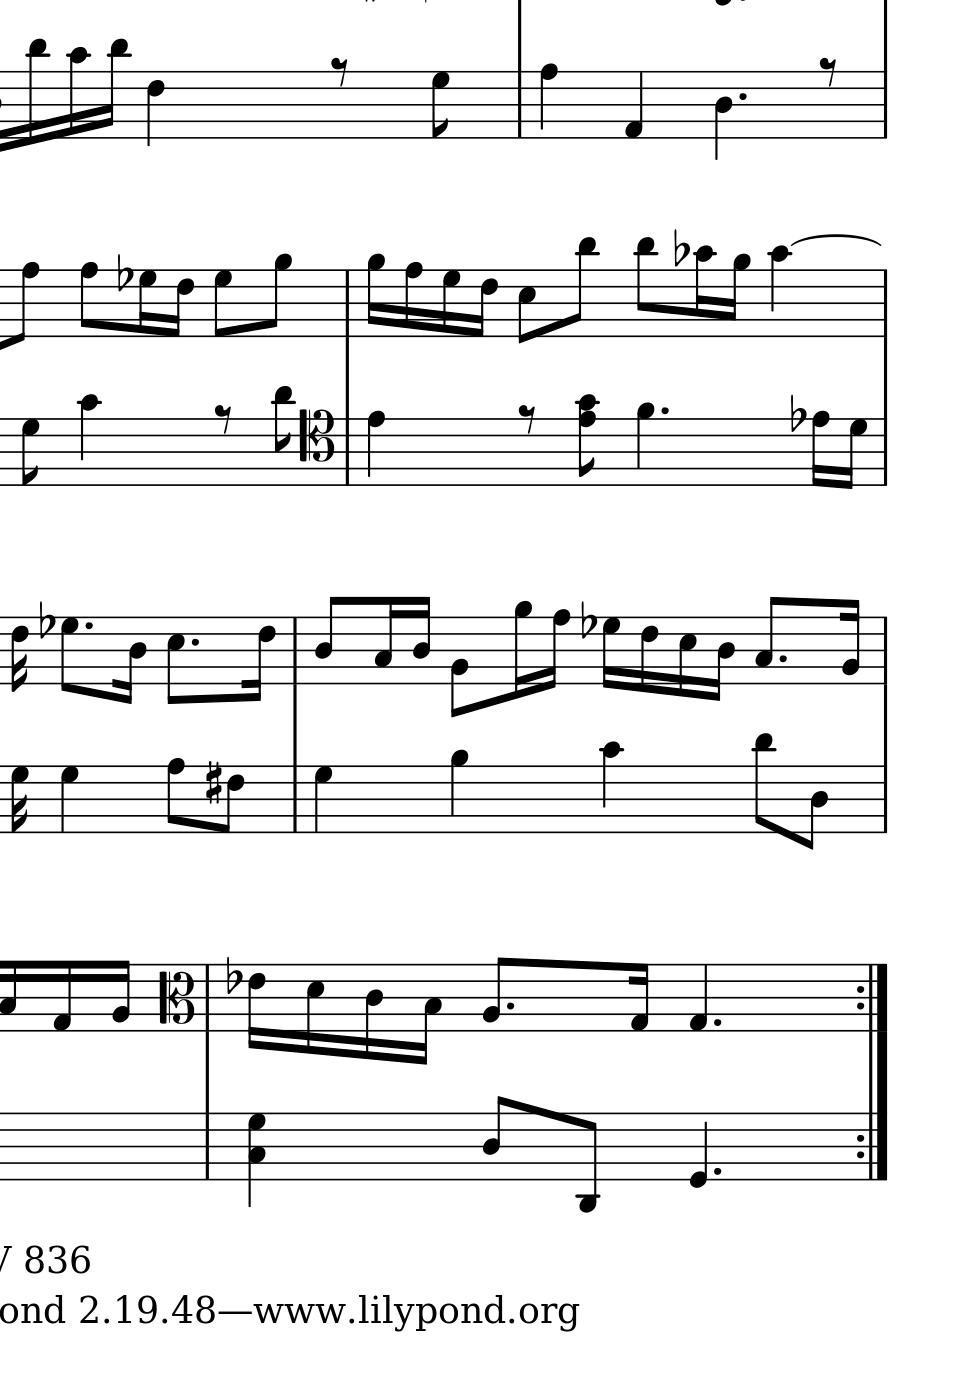16_1: (50, 958, 74, 1035), (626, 962, 651, 1035)
16_10: (692, 243, 717, 338), (66, 45, 89, 140)
16_11: (99, 37, 130, 142), (25, 37, 48, 147)
16_2: (838, 597, 861, 686), (109, 958, 132, 1033)
16_3: (413, 961, 443, 1067), (371, 595, 400, 686), (1, 958, 19, 1034)
16_4: (115, 615, 146, 706), (361, 962, 385, 1064), (708, 614, 735, 703), (412, 595, 431, 685)
16_5: (304, 962, 325, 1057), (676, 614, 697, 699)
16_6: (243, 615, 277, 703), (168, 267, 194, 339), (246, 962, 267, 1051), (472, 268, 498, 338), (8, 614, 29, 694), (638, 615, 659, 695)
16_7: (841, 416, 868, 492), (600, 615, 620, 692), (136, 267, 157, 340), (439, 267, 460, 340), (8, 764, 30, 837)
16_8: (541, 608, 570, 692), (402, 261, 424, 339), (809, 409, 830, 490)
16_9: (724, 252, 751, 339), (512, 599, 533, 698), (364, 251, 385, 339)
4_0: (686, 1111, 708, 1190)
4_1: (684, 963, 708, 1034), (622, 70, 644, 141)
4_10: (767, 244, 792, 338), (598, 740, 623, 836), (76, 393, 101, 488)
4_3_7: (247, 1110, 267, 1209)
4_4: (712, 70, 733, 162)
4_6: (144, 70, 165, 150)
4_7: (312, 764, 334, 835), (58, 764, 78, 835)
4_8: (364, 409, 386, 487), (537, 62, 558, 141)
4_9: (633, 400, 657, 487), (448, 749, 469, 835)
8_-3: (576, 1112, 601, 1214)
8_11: (565, 236, 599, 339), (748, 731, 778, 836), (270, 383, 295, 488), (633, 235, 658, 339)
8_2: (448, 615, 470, 718), (482, 955, 510, 1033)
8_3: (752, 594, 782, 685)
8_4: (313, 595, 342, 686), (482, 1094, 510, 1183), (801, 764, 829, 850)
8_5: (165, 615, 186, 706), (515, 267, 536, 344)
8_6: (218, 764, 244, 835)
8_7: (58, 615, 80, 696), (428, 69, 451, 141), (19, 417, 41, 488), (212, 268, 233, 338)
8_8: (8, 260, 40, 346), (78, 260, 100, 339), (164, 756, 186, 836)
8_8_10: (574, 394, 598, 486)
8_9: (264, 253, 291, 339)
Cclef: (156, 963, 196, 1032)
Flat: (670, 226, 688, 269), (578, 599, 596, 641), (113, 252, 132, 293), (223, 955, 240, 997), (788, 393, 804, 435), (36, 599, 52, 641)
Rests8: (328, 54, 350, 88), (817, 55, 839, 88), (212, 402, 233, 435), (517, 402, 536, 435)
RightRepeatSign: (853, 963, 891, 1031), (853, 1113, 890, 1182)
Sharp: (203, 758, 223, 806)
Single_barline: (510, 70, 530, 138), (286, 766, 305, 832), (197, 1113, 216, 1179), (285, 617, 303, 685), (876, 72, 893, 138), (877, 766, 893, 834), (199, 964, 215, 1032), (339, 270, 355, 337), (339, 418, 355, 485), (877, 419, 893, 486), (877, 617, 892, 685), (877, 270, 892, 337)
Slur: (789, 235, 878, 247)
Tensor_Cclef: (297, 407, 335, 488)
dot: (188, 635, 202, 650), (735, 89, 749, 103), (503, 999, 517, 1013), (657, 404, 671, 417), (82, 619, 94, 633), (710, 1165, 723, 1178), (711, 1016, 723, 1029), (776, 652, 788, 665)
